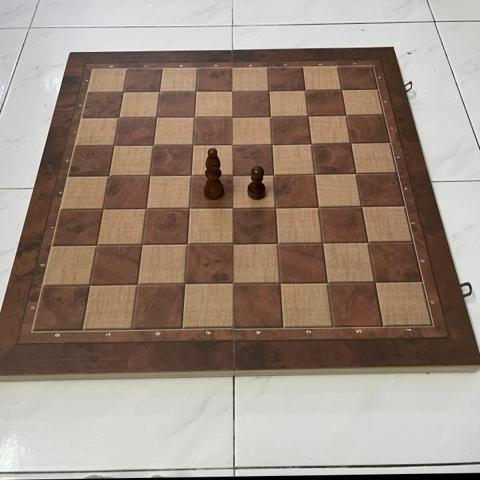xcorner: (113, 83, 130, 100), (149, 83, 166, 100), (186, 82, 203, 99), (222, 82, 239, 99), (259, 81, 276, 98), (184, 108, 201, 125), (337, 106, 354, 123), (183, 136, 200, 153), (262, 135, 279, 152), (342, 134, 359, 151), (99, 167, 116, 184), (181, 166, 198, 183), (264, 165, 281, 182), (223, 199, 240, 216), (223, 235, 240, 252), (268, 235, 285, 252), (314, 234, 331, 251), (81, 276, 98, 293), (223, 275, 240, 292), (271, 275, 288, 292), (367, 274, 384, 291), (296, 81, 312, 98), (332, 81, 349, 97), (109, 109, 125, 126), (147, 108, 163, 125), (222, 108, 239, 124), (261, 107, 277, 124), (104, 137, 121, 153), (144, 136, 160, 153), (223, 135, 239, 152), (302, 135, 319, 151), (140, 167, 157, 183), (223, 166, 239, 183), (306, 165, 322, 182), (347, 165, 364, 181), (94, 200, 110, 217), (180, 199, 196, 216), (266, 199, 283, 215), (310, 198, 326, 215), (353, 198, 370, 214), (88, 236, 104, 253), (133, 236, 149, 253), (178, 235, 194, 252), (360, 234, 376, 251), (128, 276, 145, 292), (176, 275, 192, 292), (319, 275, 336, 291), (299, 107, 315, 123), (137, 200, 153, 216)
